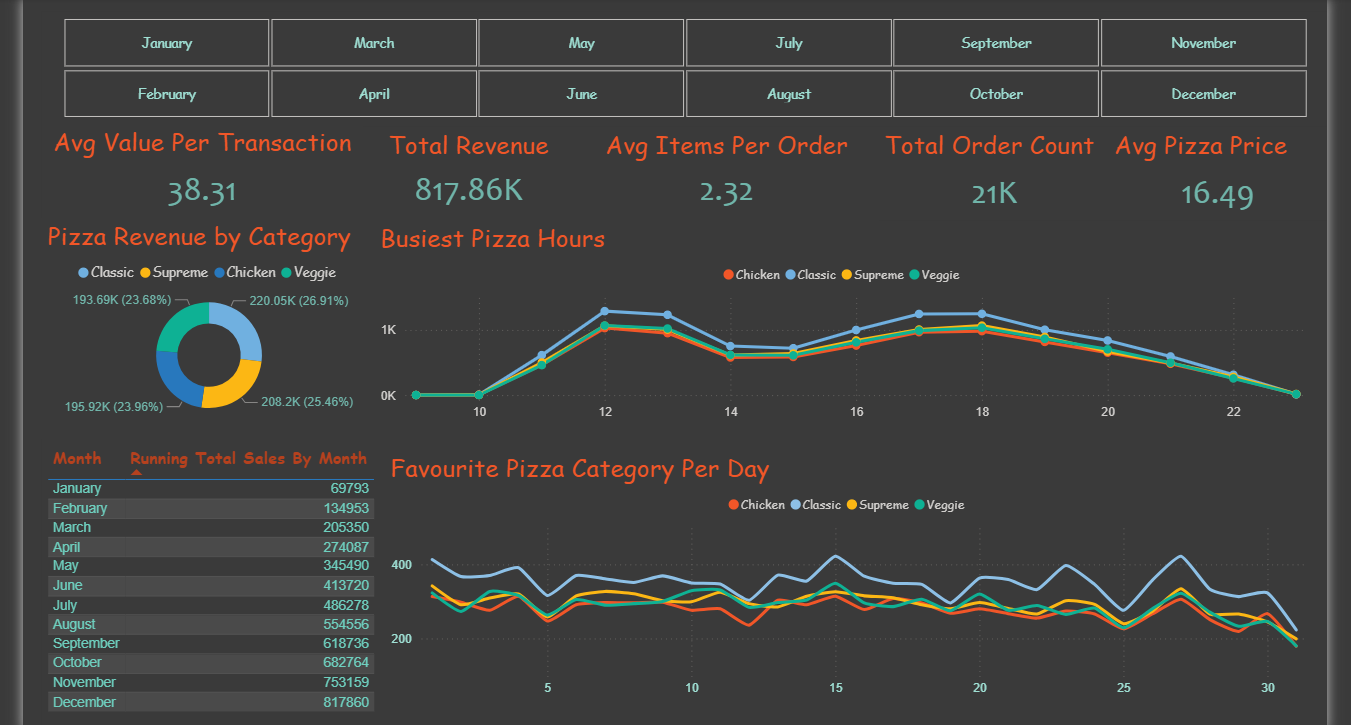

Layout of this report page (visuals, bound fields, positions):
{"tool":"powerbi","page":{"name":"Pizza Sales","canvas":[1280,720],"ordinal":0},"visuals":[{"type":"card","title":"Total Revenue","fields":{"Values":["Sum(pizza_sales.total_price)"]},"box":[333.7,126.4,207.4,87.1],"z":0},{"type":"donutChart","title":"Pizza Revenue by Category","fields":{"Category":["pizza_sales.pizza_category"],"Y":["Sum(pizza_sales.total_price)"]},"box":[19.6,216,326.4,206.1],"z":1000},{"type":"lineChart","title":"Favourite Pizza Category Per Day ","fields":{"Y":["Count(pizza_sales.order_id)"],"Series":["pizza_sales.pizza_category"],"Category":["Date Table.Date.Variation.Date Hierarchy.Day"]},"box":[355.8,444.2,909.2,249.1],"z":2000},{"type":"slicer","fields":{"Values":["Date Table.Date.Variation.Date Hierarchy.Month"]},"box":[18.4,13.5,1261.4,110.4],"z":3000},{"type":"card","title":"Avg Value Per Transaction","fields":{"Values":["pizza_sales.Avg_value_per_transaction"]},"box":[18.4,123.9,315.3,92],"z":4000},{"type":"tableEx","fields":{"Values":["Date Table.Date.Variation.Date Hierarchy.Month","pizza_sales.Running Total Sales"]},"box":[18.4,433.1,337.4,287.1],"z":5000},{"type":"lineChart","title":"Busiest Pizza Hours ","fields":{"Category":["pizza_sales.Hour"],"Y":["pizza_sales.Orders per Hour"],"Series":["pizza_sales.pizza_category"]},"box":[346,218.4,919,203.7],"z":6000},{"type":"card","title":"Avg Items Per Order","fields":{"Values":["pizza_sales.Avg_Items_per_order"]},"box":[541.1,126.4,299.4,87.1],"z":7000},{"type":"card","title":"Total Order Count","fields":{"Values":["pizza_sales.Total_Orders"]},"box":[840.5,126.4,225.8,92],"z":8000},{"type":"card","title":"Avg Pizza Price","fields":{"Values":["pizza_sales.Average_Pizza_Price"]},"box":[1066.3,126.4,213.5,92],"z":9000}]}

Visuals, with their boxes on the page's 1280x720 design canvas (x1, y1, x2, y2). These are canvas units, not pixel positions in the 1351x725 screenshot, which may show the page scaled, cropped or inside an application window:
"Total Revenue" card: locate(334, 126, 541, 214)
"Pizza Revenue by Category" donutChart: locate(20, 216, 346, 422)
"Favourite Pizza Category Per Day " lineChart: locate(356, 444, 1265, 693)
slicer - Date Table.Date.Variation.Date Hierarchy.Month: locate(18, 14, 1280, 124)
"Avg Value Per Transaction" card: locate(18, 124, 334, 216)
tableEx - Date Table.Date.Variation.Date Hierarchy.Month x pizza_sales.Running Total Sales: locate(18, 433, 356, 720)
"Busiest Pizza Hours " lineChart: locate(346, 218, 1265, 422)
"Avg Items Per Order" card: locate(541, 126, 840, 214)
"Total Order Count" card: locate(840, 126, 1066, 218)
"Avg Pizza Price" card: locate(1066, 126, 1280, 218)
